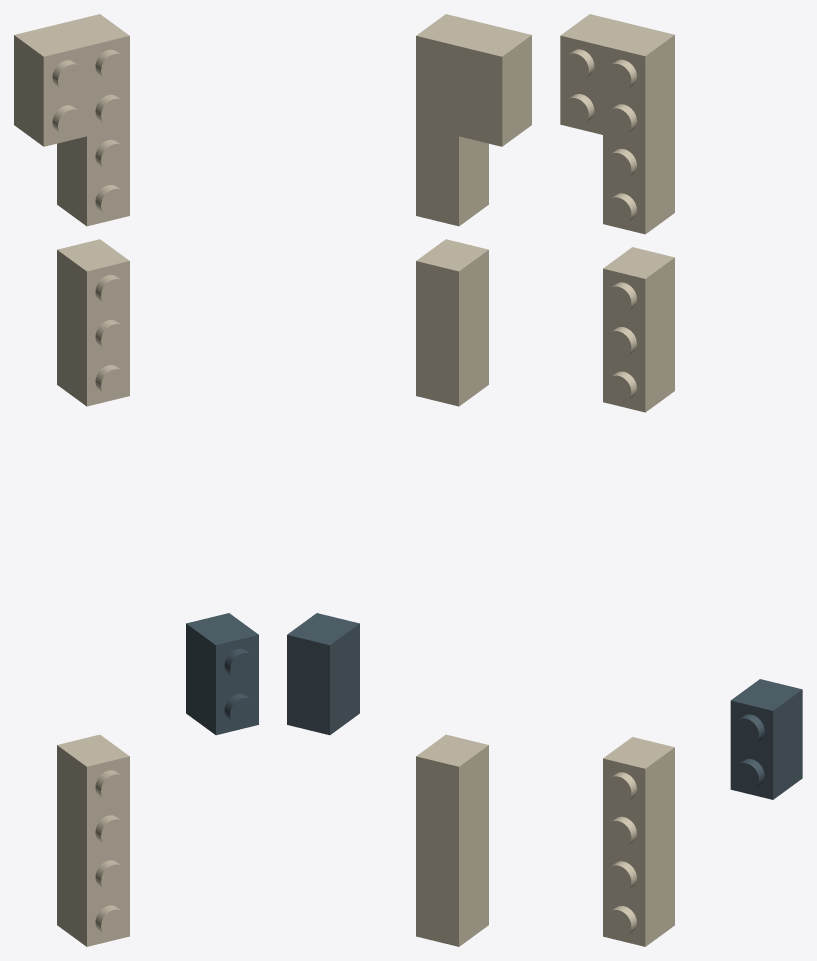
The model's file is current.glb.
3 renders of one model, left to right at view 1: azimuth 30°, elevation 25°; view 2: azimuth 150°, elevation 25°; view 3: azimuth 330°, elevation 25°, orthographic.
Visible parts, largest first — view 1: world; view 2: world; view 3: world.
Boxes of the visible parts, x1,y1,x2,y2 form: world: (14, 14, 258, 946); world: (287, 14, 531, 946); world: (560, 14, 802, 946).
Bounding box in the file's own units: 40 × 160 × 11.4.
